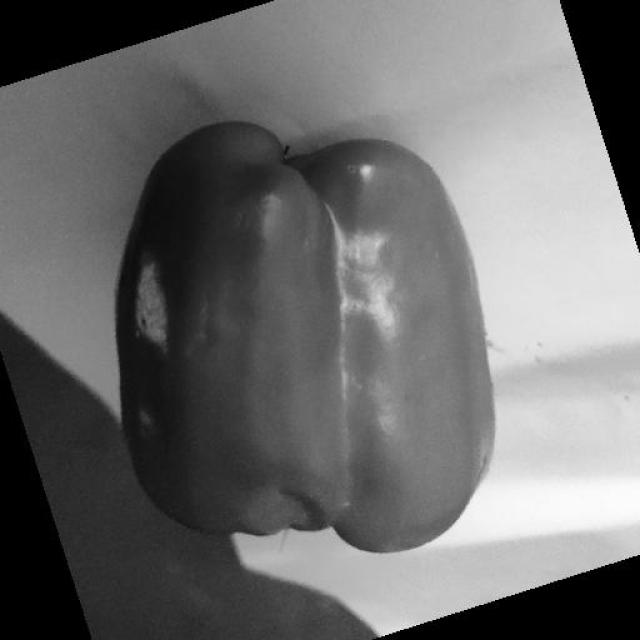Stale_Capsicum: (130, 81, 462, 518)
